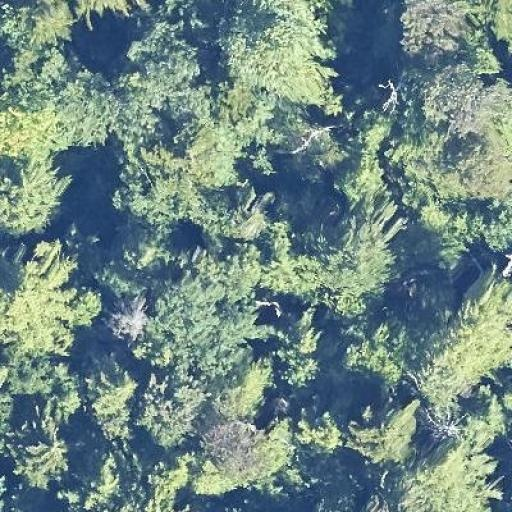tree-top: (214, 0, 342, 110), (400, 282, 510, 400), (0, 48, 114, 154), (0, 236, 99, 358), (370, 431, 502, 511), (417, 288, 512, 397), (302, 197, 399, 289), (346, 386, 438, 464), (121, 12, 200, 96), (375, 1, 490, 58), (337, 104, 400, 204), (410, 62, 494, 134), (188, 406, 275, 475), (118, 150, 195, 226), (0, 151, 64, 242), (423, 203, 512, 268), (433, 133, 512, 204), (267, 309, 332, 395), (149, 267, 227, 338), (177, 117, 247, 196), (136, 362, 204, 442), (338, 317, 406, 390), (84, 363, 142, 447), (17, 412, 82, 484), (8, 352, 86, 412), (199, 193, 275, 253), (14, 0, 82, 50), (284, 114, 342, 171), (290, 404, 346, 463), (143, 450, 193, 505), (122, 231, 180, 277), (74, 453, 128, 502), (107, 292, 149, 346)
